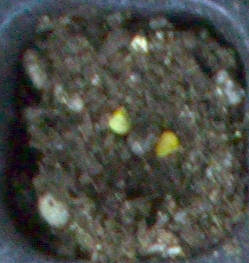pepper seed: (63, 49, 245, 210), (41, 39, 174, 174)
